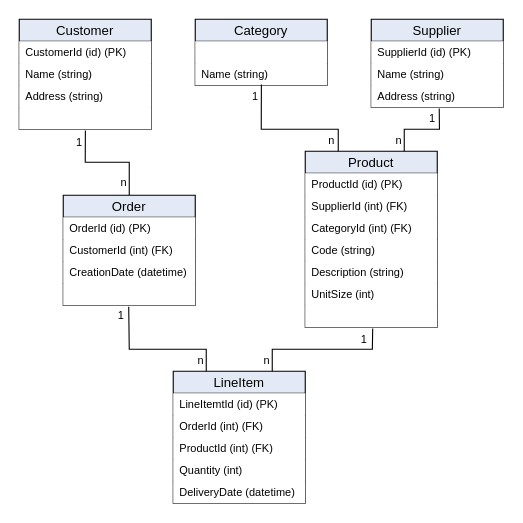
This 523x523 diagram has some shape labels left out. The centre of each missing label's shape, as x and y in pixels:
"Birthday (datetime)" belongs at pixel 85 118.
"CategorytId (id) (PK)" belongs at pixel 261 52.
"Comment (string)" belongs at pixel 129 294.
"PricePerUnit (float)" belongs at pixel 371 316.
